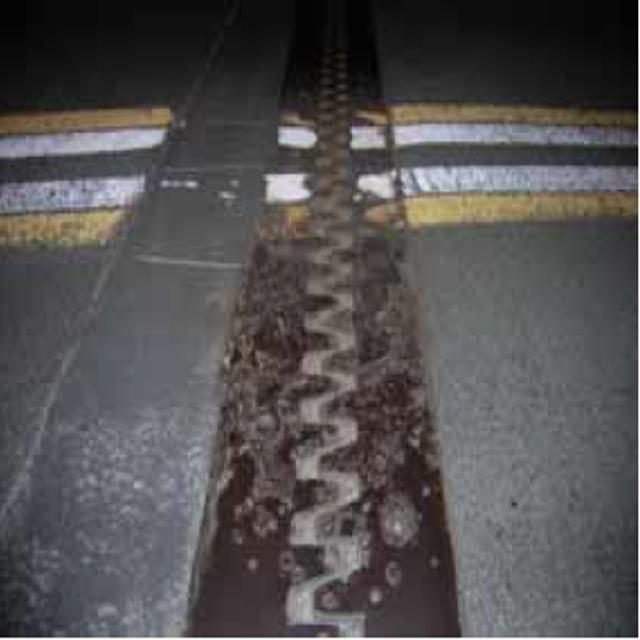corrosion: (184, 97, 456, 637)
